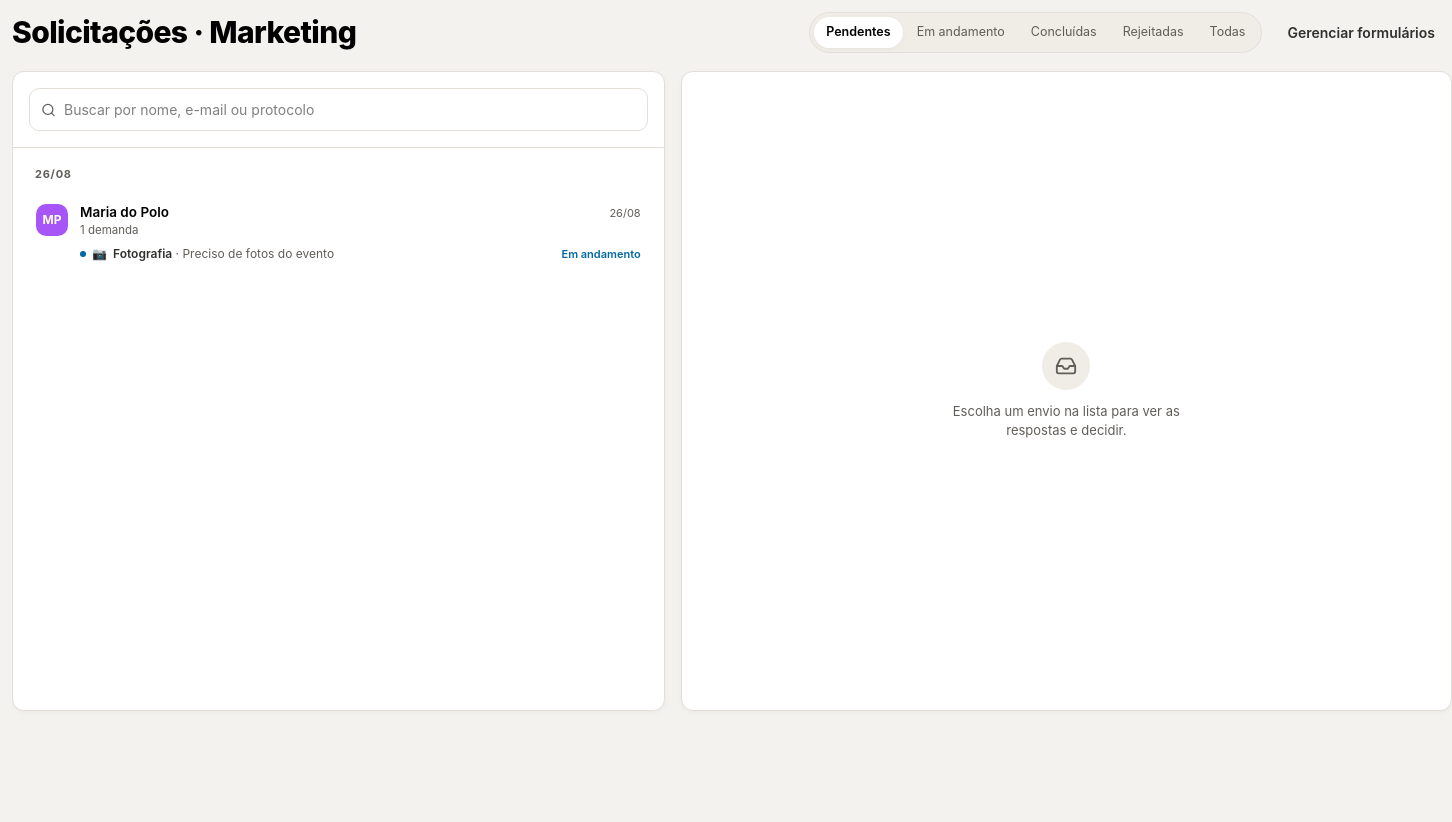
Scenario: o andamento de um pedido ACEITO › ⚠️ as ações de tarefa aparecem com o pedido EM ANDAMENTO
The image size is (1452, 822).
Click the text "Maria do Polo" at {"x": 124, "y": 212}, box [80,204,169,220]
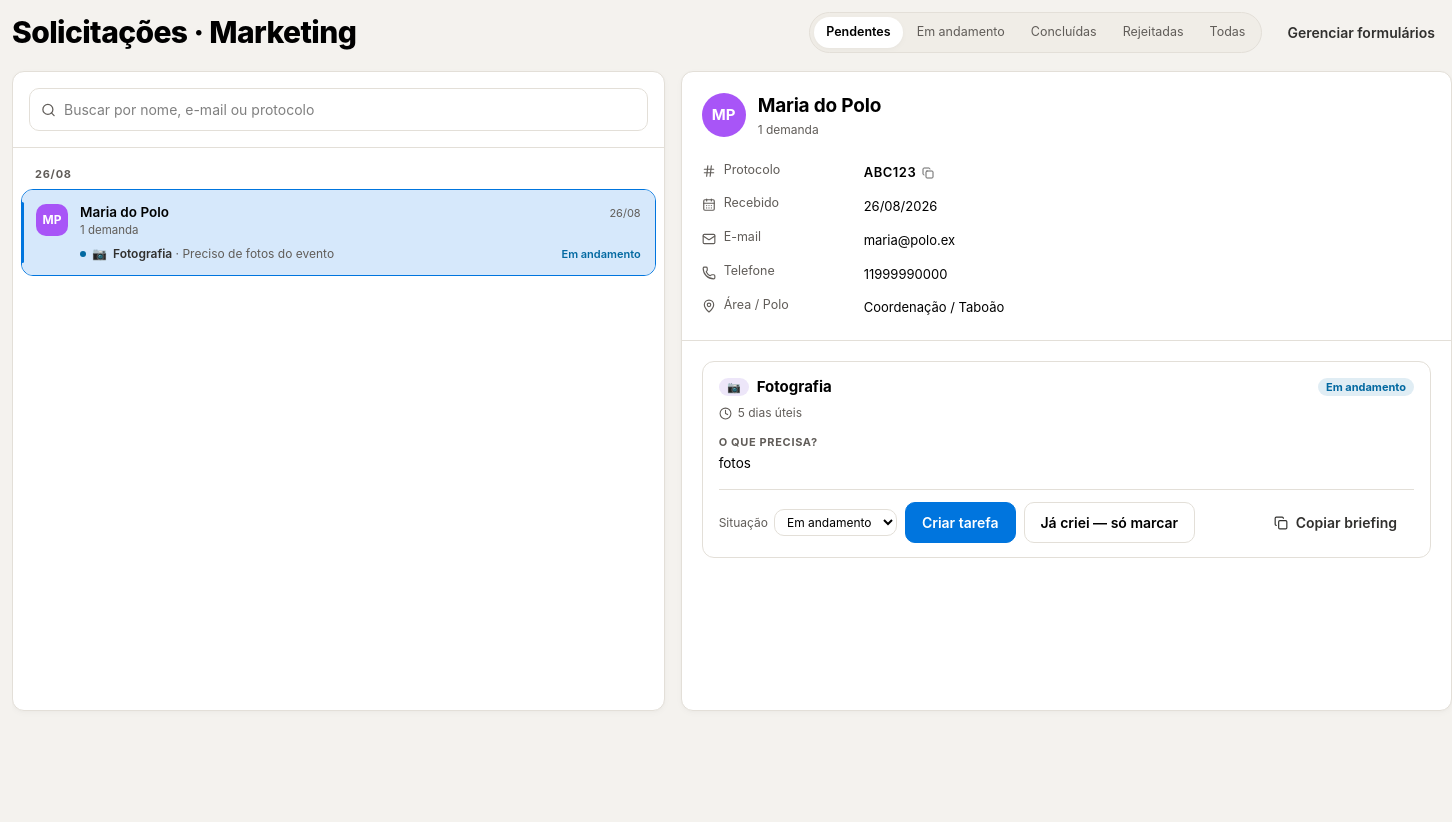
Check: the button "Criar tarefa" is shown, box [905,502,1016,543]
Check: the button "Já criei — só marcar" is shown, box [1024,502,1195,543]
